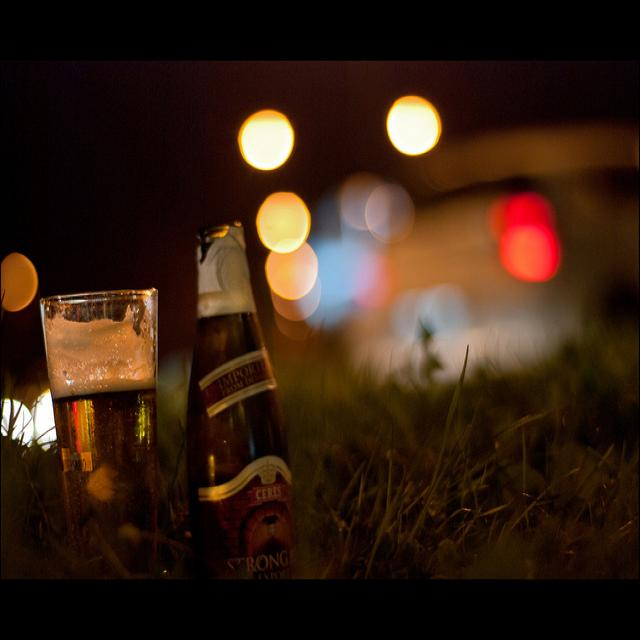Bottle: (179, 208, 299, 583)
Cup: (33, 281, 182, 577)
